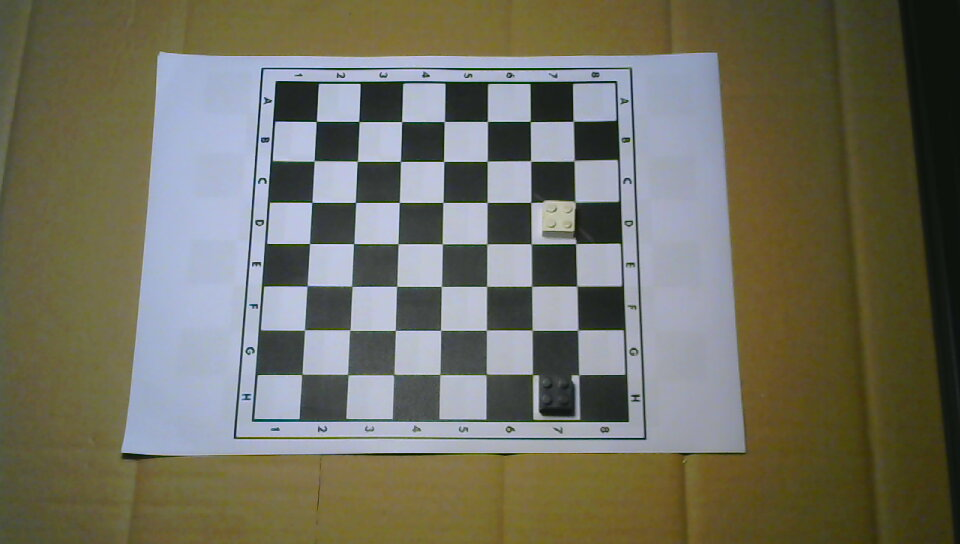bp: (536, 371, 577, 416)
wp: (539, 198, 578, 237)
